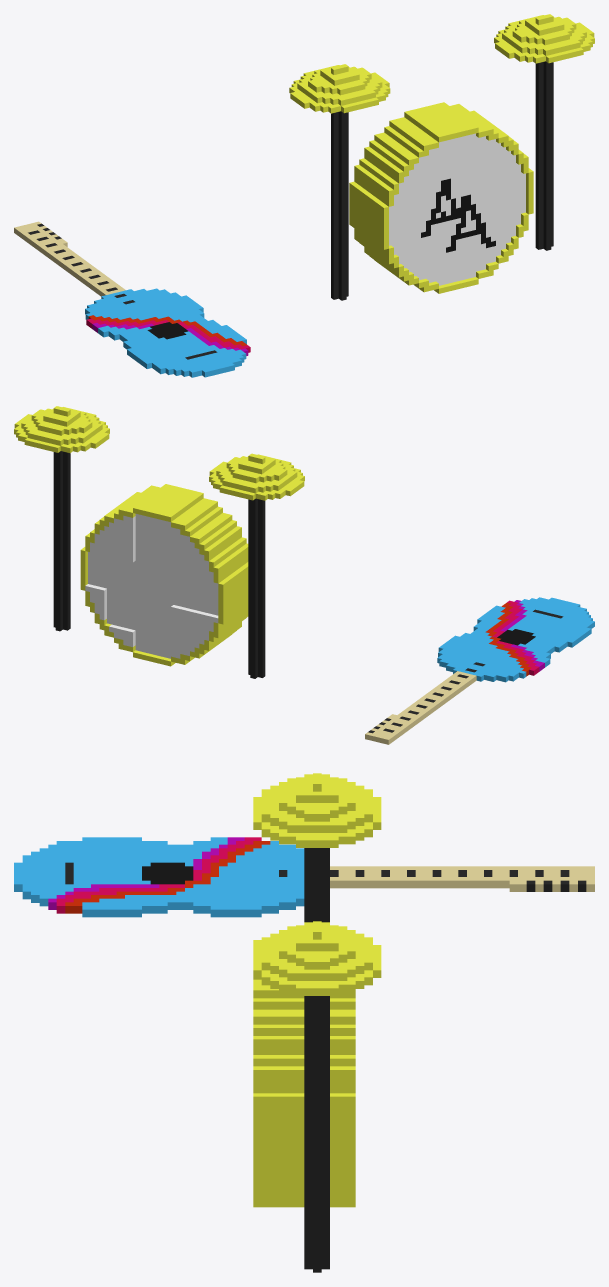
3 renders of one model, top to bottom at view 1: azimuth 30°, elevation 25°; view 2: azimuth 150°, elevation 25°; view 3: azimuth 270°, elevation 25°, orthographic. The views are drawn at different scales.
Visible parts, largest first — view 1: Matrix, Matrix_3, Matrix_2, Matrix_1; view 2: Matrix, Matrix_3, Matrix_2, Matrix_1; view 3: Matrix_3, Matrix, Matrix_2, Matrix_1.
Boxes of the visible parts, x1=… form: Matrix: x1=349, y1=102, x2=533, y2=293; Matrix_3: x1=14, y1=221, x2=250, y2=377; Matrix_2: x1=494, y1=14, x2=594, y2=250; Matrix_1: x1=289, y1=64, x2=390, y2=300; Matrix: x1=80, y1=484, x2=248, y2=666; Matrix_3: x1=365, y1=597, x2=594, y2=744; Matrix_2: x1=14, y1=406, x2=109, y2=631; Matrix_1: x1=209, y1=453, x2=304, y2=678; Matrix_3: x1=14, y1=837, x2=594, y2=917; Matrix: x1=253, y1=940, x2=355, y2=1207; Matrix_2: x1=253, y1=921, x2=381, y2=1272; Matrix_1: x1=253, y1=773, x2=381, y2=922.
Bounding box in the file's own units: 104 × 44 × 68.
Materials: 4 (4 with a texture image).
